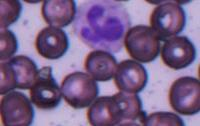N: (73, 0, 130, 50)
